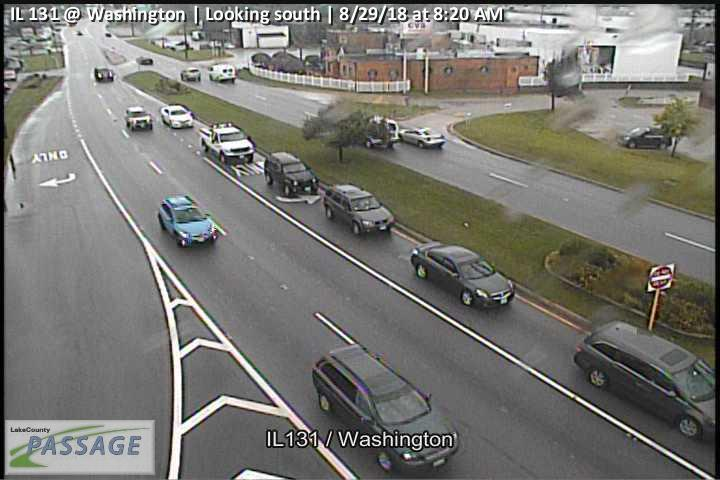SUV: (310, 344, 459, 474), (574, 318, 716, 440)
Sedan: (409, 240, 516, 307), (322, 182, 393, 235), (157, 195, 217, 248), (262, 151, 318, 196), (617, 126, 674, 148), (401, 126, 447, 150), (125, 105, 153, 132), (161, 103, 193, 126), (179, 65, 201, 82), (92, 67, 115, 82)
Truck: (200, 121, 257, 164)
